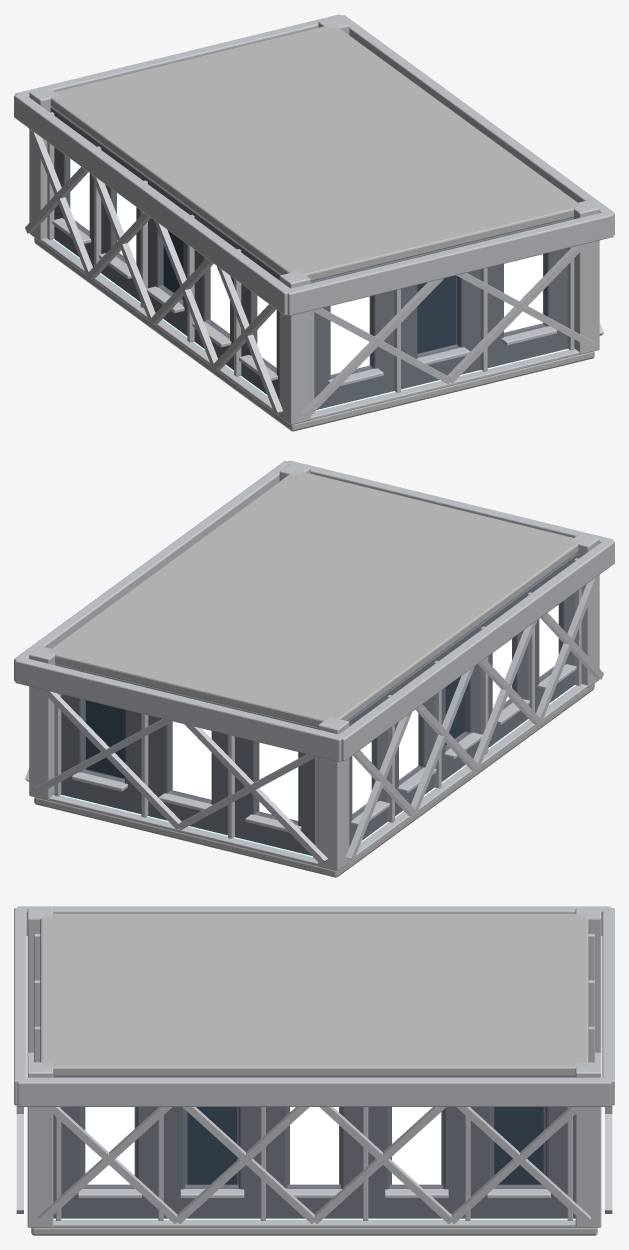
Rendered from exo_4x6.glb.
3 views of the same model, one above another, from view 1: azimuth 30°, elevation 25°; view 2: azimuth 150°, elevation 25°; view 3: azimuth 270°, elevation 25° (orthographic). The views are drawn at different scales.
Visible parts, largest first — view 1: int_ceiling, ext_wall, ext_truss3, int_columns, ext_truss2, ext_frames, ext_panes_lit, ext_truss0, int_slab_edge, int_slab, ext_panes_dark, ext_truss1 (+13 smaller); view 2: int_ceiling, ext_wall, ext_truss1, int_columns, ext_truss2, ext_panes_lit, ext_frames, ext_truss0, int_slab_edge, int_slab, ext_panes_dark, ext_truss3 (+13 smaller); view 3: int_ceiling, ext_wall, ext_truss0, int_columns, ext_panes_lit, ext_frames, ext_panes_dark, int_slab, ext_truss2, int_slab_edge, ext_truss1, ext_truss3 (+11 smaller).
Part boxes in pixels (x1,y1,x2,y2): int_ceiling: (50,24,581,281); ext_wall: (50,107,573,409); ext_truss3: (287,211,613,315); int_columns: (29,17,599,424); ext_truss2: (14,94,292,315); ext_frames: (47,112,574,402); ext_panes_lit: (70,159,542,374); ext_truss0: (337,15,614,234); int_slab_edge: (41,238,579,420); int_slab: (34,237,594,431); ext_panes_dark: (163,230,456,353); ext_truss1: (15,14,340,96); int_ceiling: (47,470,580,727); ext_wall: (55,553,578,855); ext_truss1: (15,657,341,761); int_columns: (29,463,599,870); ext_truss2: (338,539,614,761); ext_panes_lit: (172,605,558,820); ext_frames: (54,558,581,848); ext_truss0: (14,461,292,680); int_slab_edge: (49,684,587,866); int_slab: (34,683,594,877); ext_panes_dark: (86,676,465,778); ext_truss3: (285,460,613,542); int_ceiling: (40,913,588,1076); ext_wall: (53,1076,575,1218); ext_truss0: (17,1077,611,1106); int_columns: (27,908,601,1227); ext_panes_lit: (85,1107,441,1184); ext_frames: (27,934,601,1220); ext_panes_dark: (187,1107,543,1184); int_slab: (31,1227,597,1235); ext_truss2: (17,906,611,935); int_slab_edge: (53,1220,575,1227); ext_truss1: (602,908,614,1105); ext_truss3: (14,908,26,1105).
Bounding box in the file's own units: 4.58 × 2 × 6.58.
